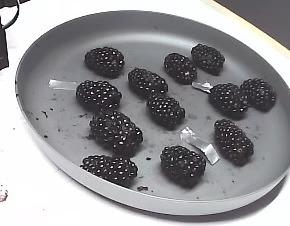berry: (89, 111, 142, 157), (160, 146, 205, 187), (214, 119, 253, 166), (82, 155, 137, 187), (76, 80, 121, 111), (209, 83, 247, 118), (146, 97, 184, 129), (84, 47, 123, 78), (128, 68, 167, 98), (240, 78, 275, 111), (191, 44, 224, 75), (164, 53, 196, 84)
